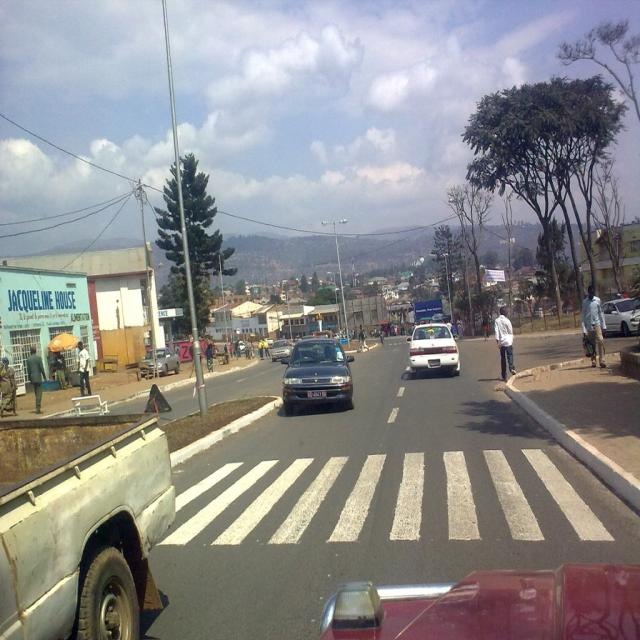car: (283, 334, 354, 413), (404, 314, 462, 379), (593, 296, 639, 335)
